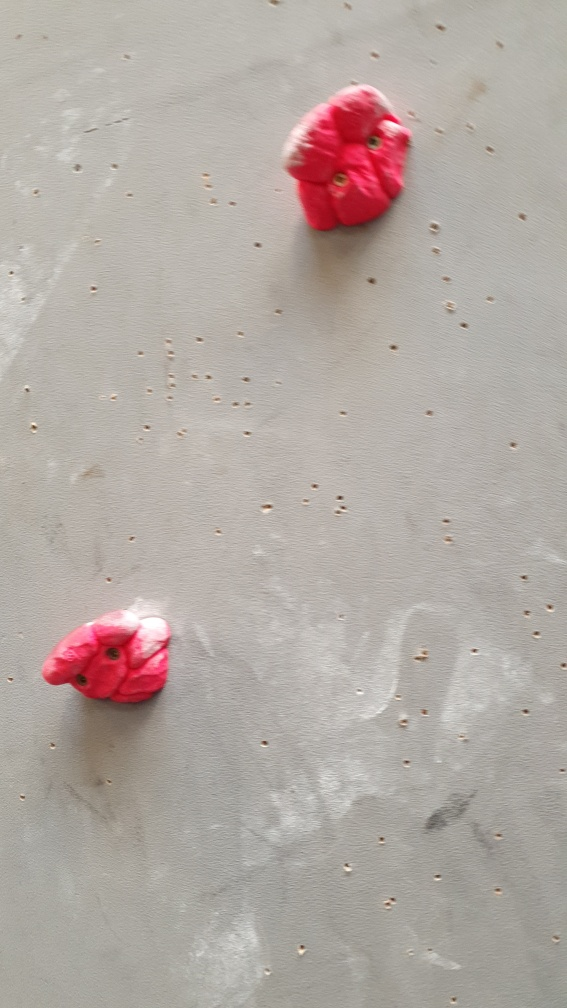Jug: (283, 82, 416, 240), (42, 614, 174, 709)
